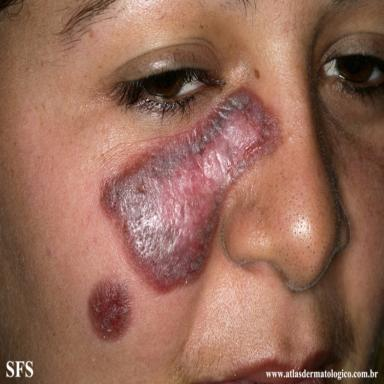Lupus-Erythematosus-Chronicus-Discoides: (101, 88, 278, 293), (89, 281, 131, 339)
